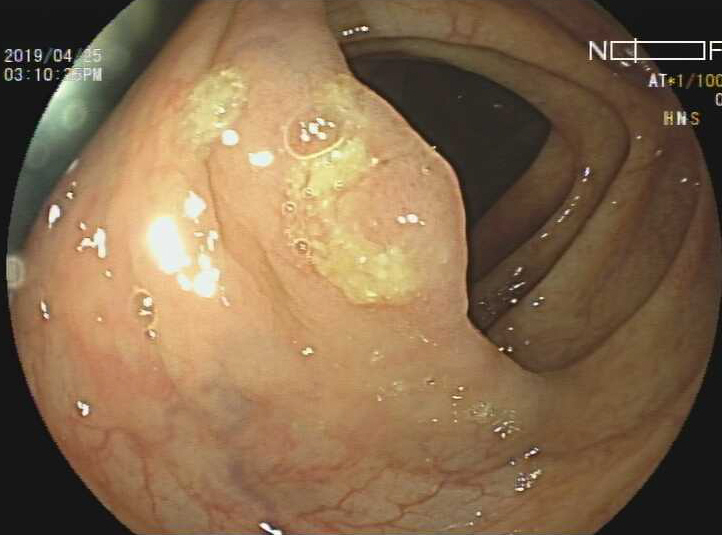adenoma: (290, 78, 470, 327)
